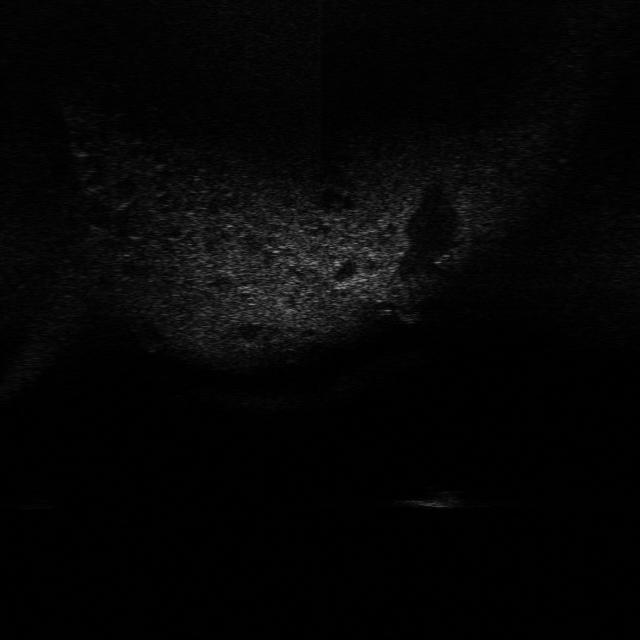ball: (394, 291, 424, 323)
cube: (402, 489, 469, 510)
